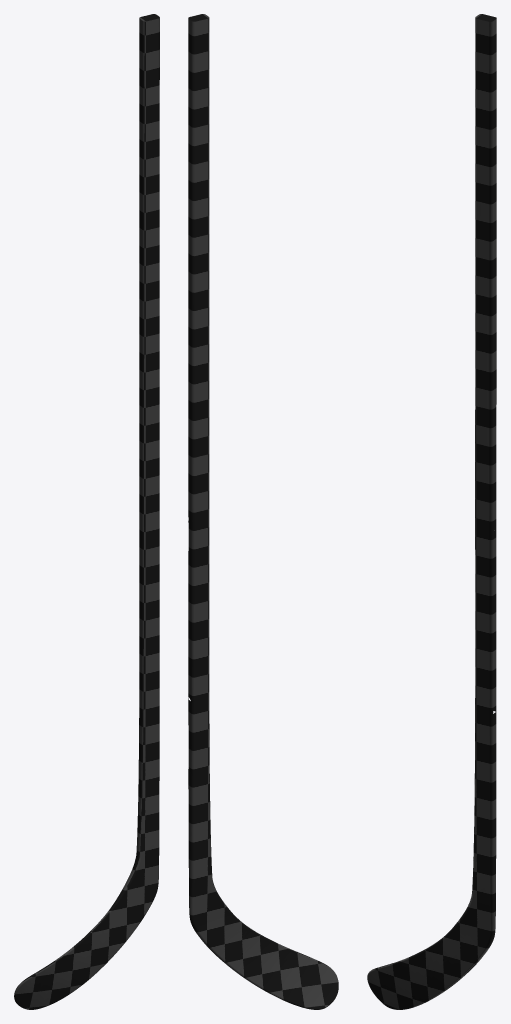
3 views of the same model, side by side, from view 1: azimuth 30°, elevation 25°; view 2: azimuth 210°, elevation 25°; view 3: azimuth 330°, elevation 25° (orthographic). The views are drawn at different scales.
Visible parts, largest first — view 1: geometry_0; view 2: geometry_0; view 3: geometry_0.
Boxes of the visible parts, x1,y1,x2,y2 form: geometry_0: (14,14,159,1009); geometry_0: (188,14,338,1009); geometry_0: (367,14,496,1009).
Bounding box in the file's own units: 234 × 1650 × 52.9.
1 material, 1 textured.
